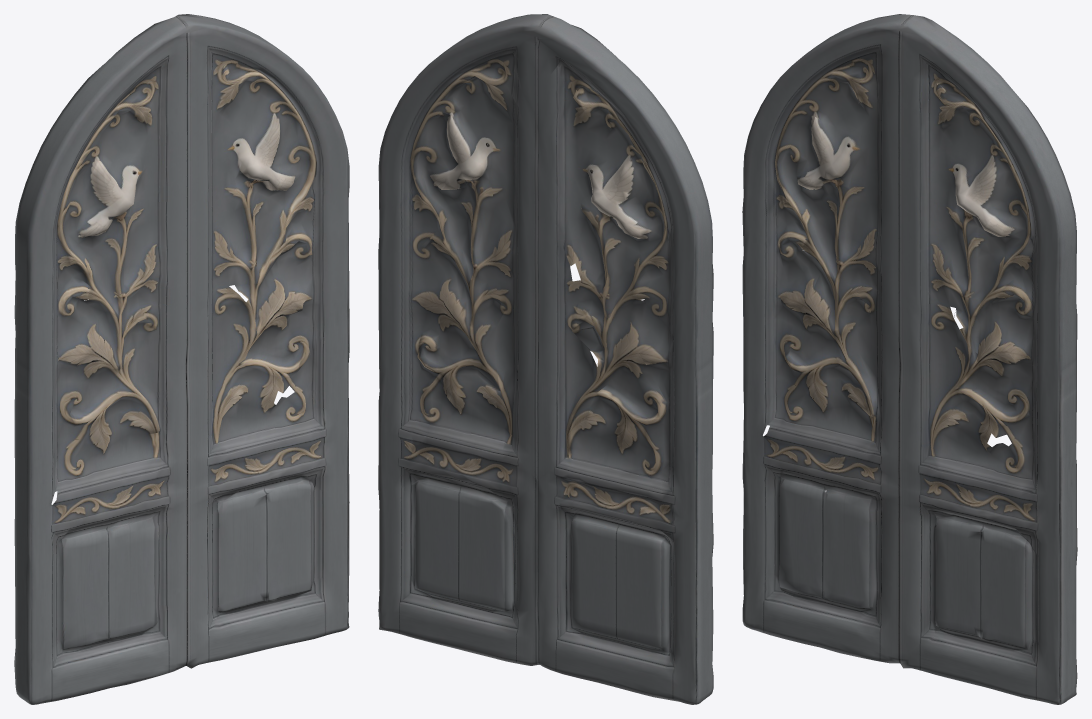
The model's file is door2.glb.
3 views of the same model, side by side, from view 1: azimuth 30°, elevation 25°; view 2: azimuth 150°, elevation 25°; view 3: azimuth 330°, elevation 25° (orthographic).
Parts seen in each view (by area): view 1: tripo_node_38e4ac4d; view 2: tripo_node_38e4ac4d; view 3: tripo_node_38e4ac4d.
Boxes of the visible parts, <box> form: tripo_node_38e4ac4d: <box>14,14,349,704</box>; tripo_node_38e4ac4d: <box>378,14,713,704</box>; tripo_node_38e4ac4d: <box>742,14,1077,704</box>.
Size of the model in its own units: 50.83 by 97.78 by 7.
1 material, 1 textured.
